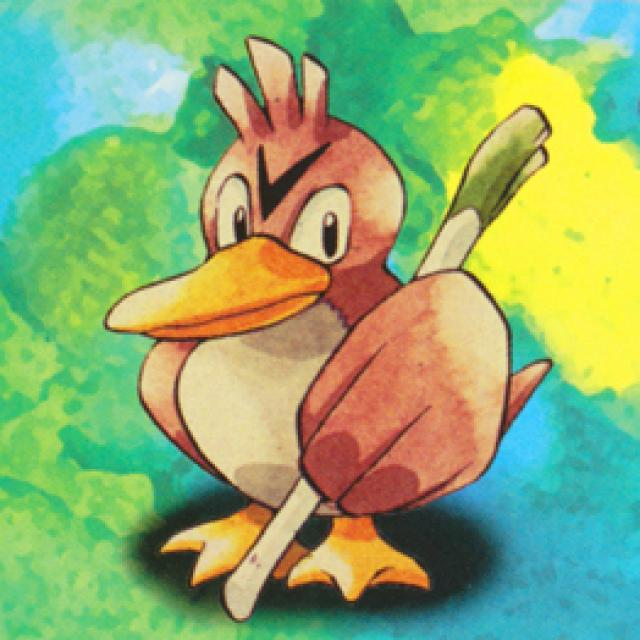Farfetchd: (125, 39, 528, 608)
